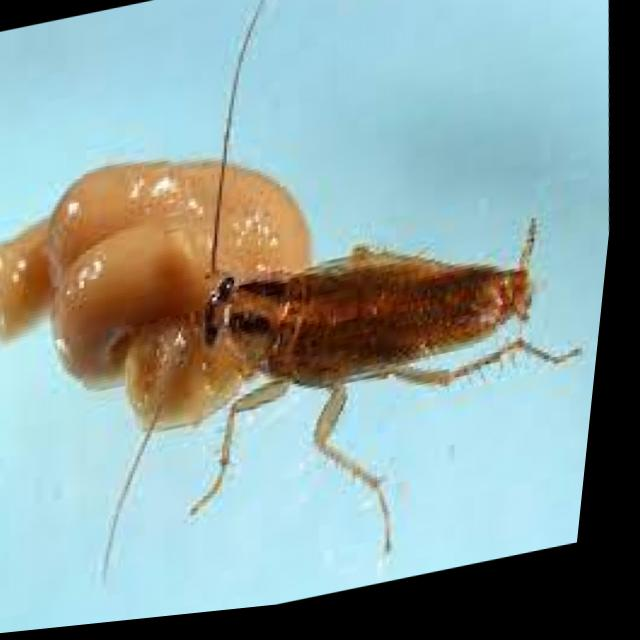Cockroach: (117, 138, 624, 585)
